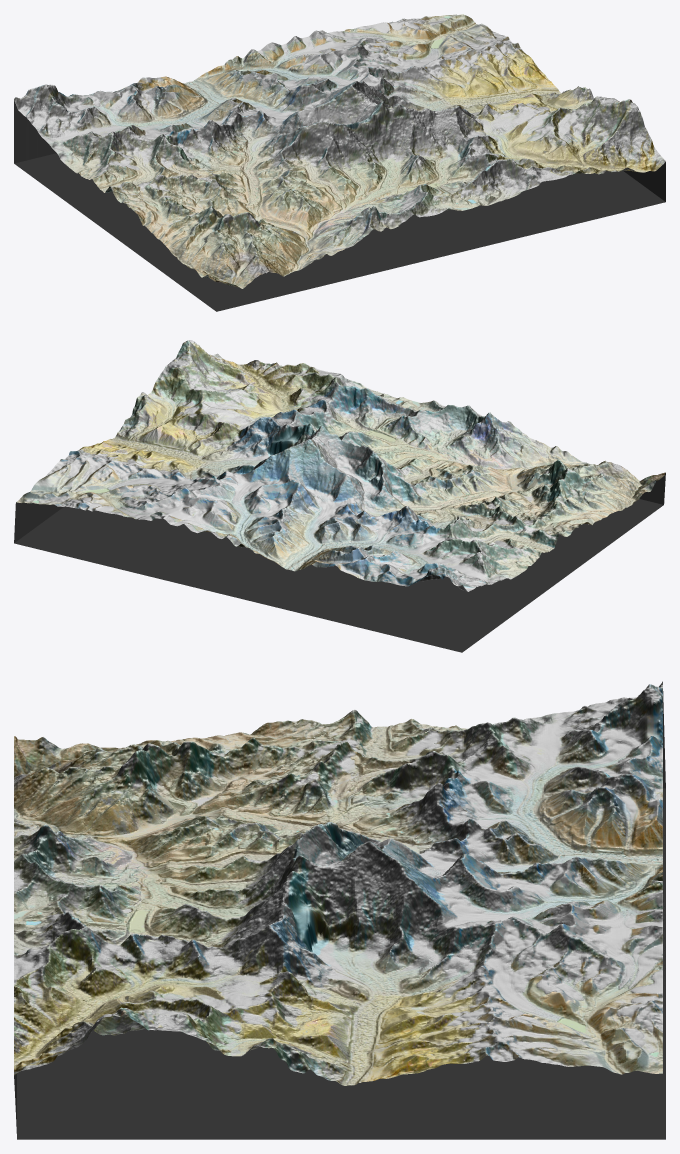
The model's file is mount_everest_nepaltibetchina.glb.
3 views of the same model, one above another, from view 1: azimuth 30°, elevation 25°; view 2: azimuth 150°, elevation 25°; view 3: azimuth 270°, elevation 25° (orthographic). The views are drawn at different scales.
Parts seen in each view (by area): view 1: EV3_0; view 2: EV3_0; view 3: EV3_0.
Part boxes in pixels (x1,y1,x2,y2): EV3_0: (14, 14, 665, 311); EV3_0: (14, 340, 665, 652); EV3_0: (14, 681, 665, 1139).
Bounding box in the file's own units: 41044 × 7543 × 32122.
2 materials, 1 textured.
